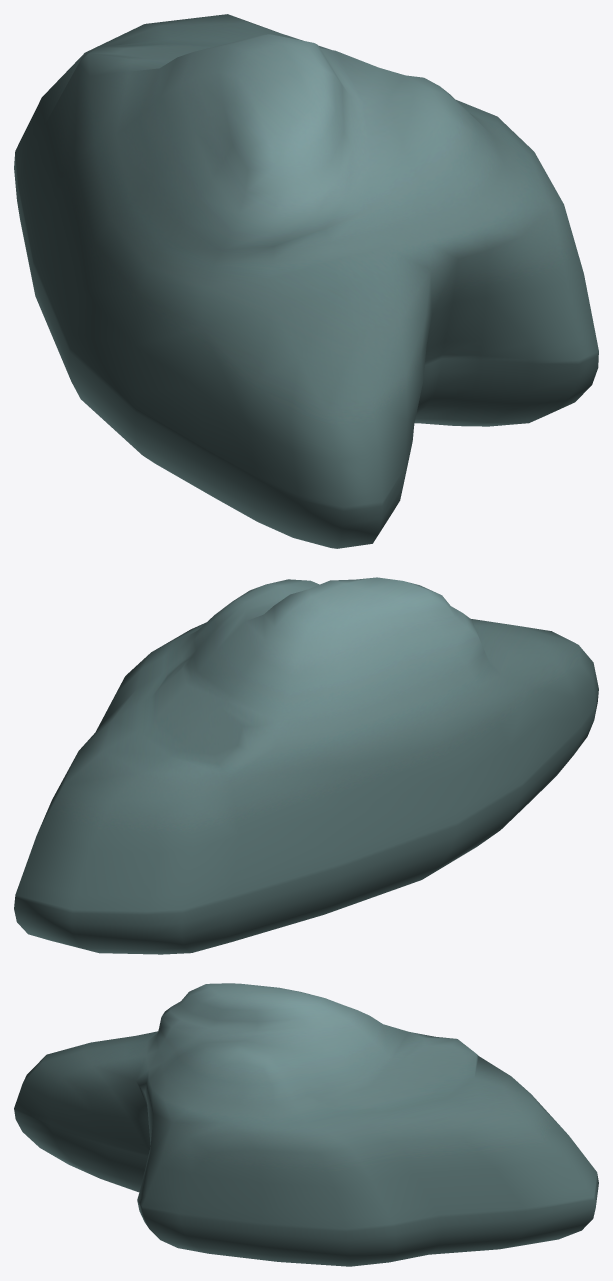
File: ROCK03.fbx
3 views of the same model, one above another, from view 1: azimuth 30°, elevation 25°; view 2: azimuth 150°, elevation 25°; view 3: azimuth 270°, elevation 25° (orthographic). The views are drawn at different scales.
Parts seen in each view (by area): view 1: ROCK03; view 2: ROCK03; view 3: ROCK03.
Boxes of the visible parts, x1=… form: ROCK03: x1=14, y1=14, x2=598, y2=548; ROCK03: x1=14, y1=577, x2=598, y2=954; ROCK03: x1=14, y1=983, x2=598, y2=1266.
Bounding box in the file's own units: 8.55 × 6.21 × 15.06.
